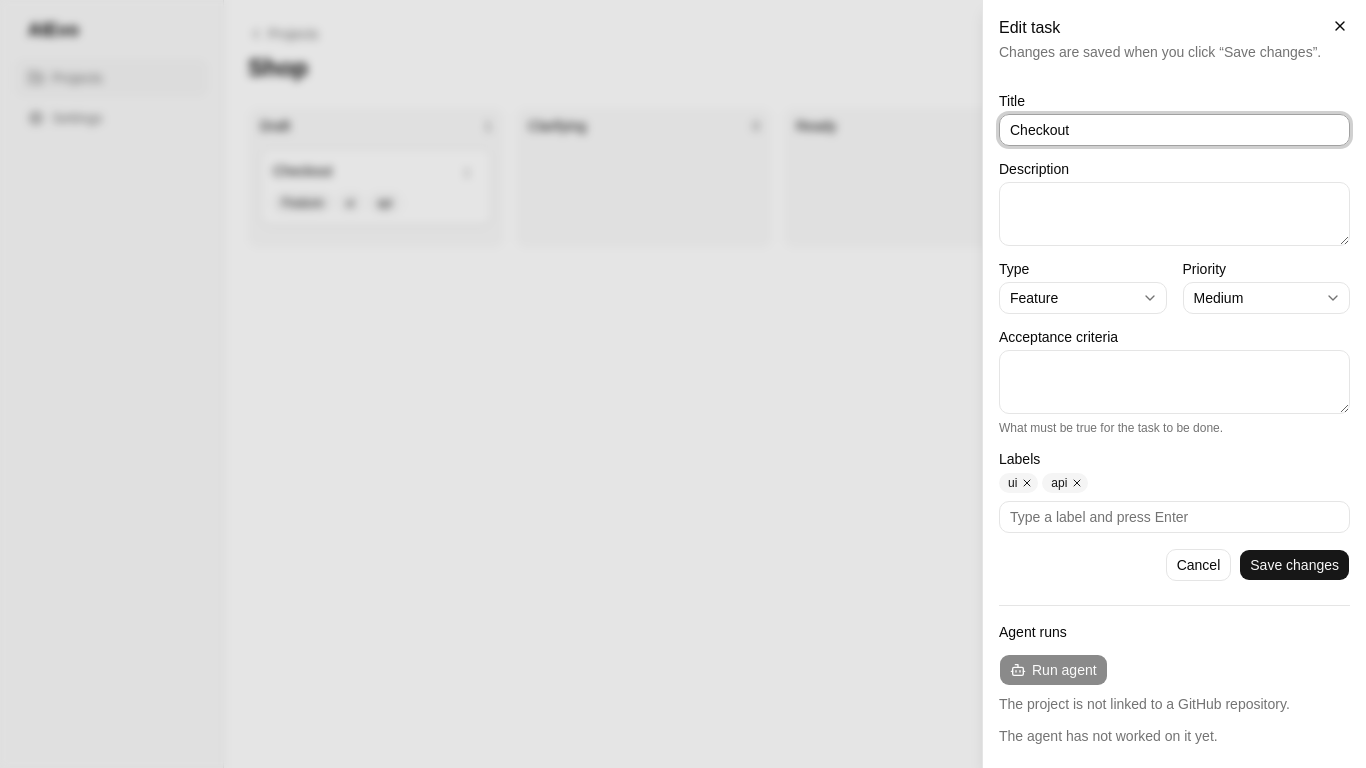
it: TaskSheet › sends the new labels when a label is removed and another added
The width and height of the screenshot is (1366, 768).
Click the button named "Remove label ui". click: (1027, 483)
box: [1021,477,1033,489]
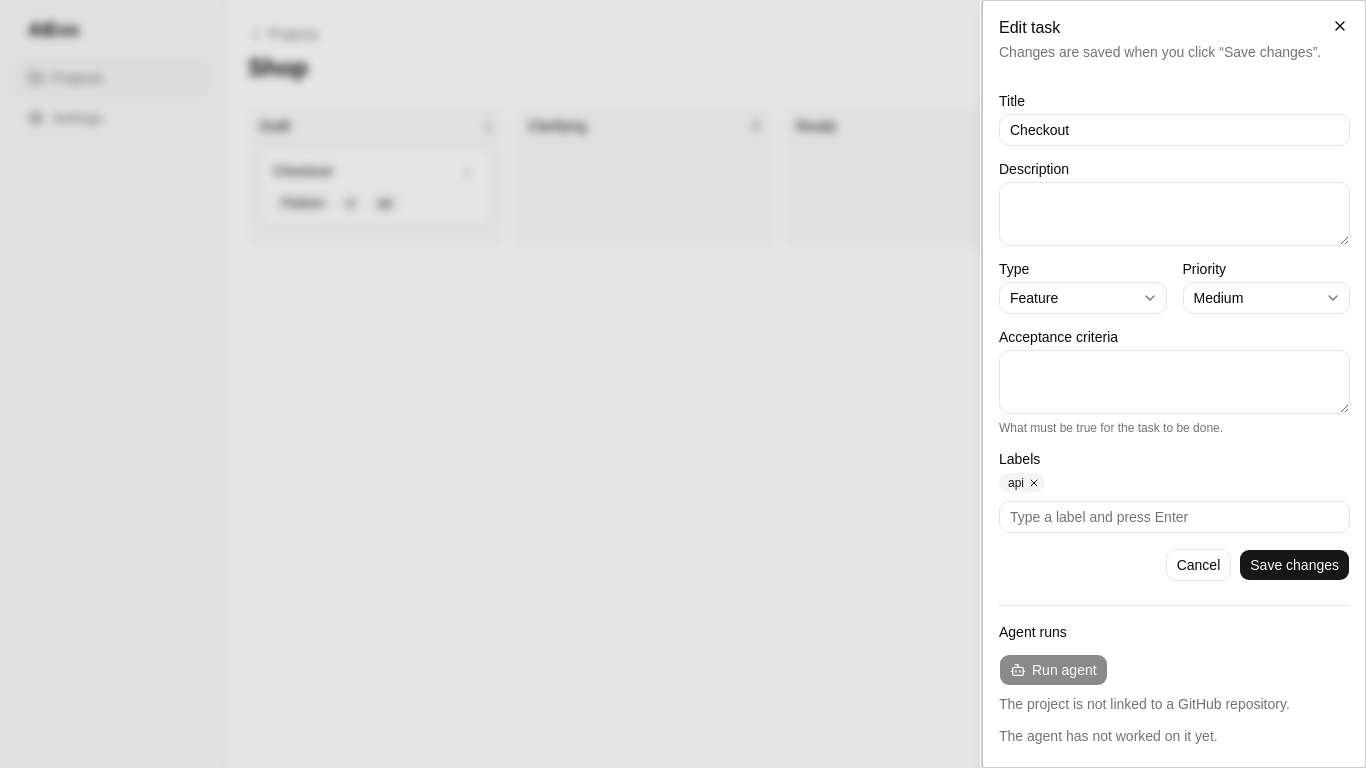
Type "web" into the field labelled "Labels". click: (1174, 517)
box: [999,501,1350,533]
Then press Enter
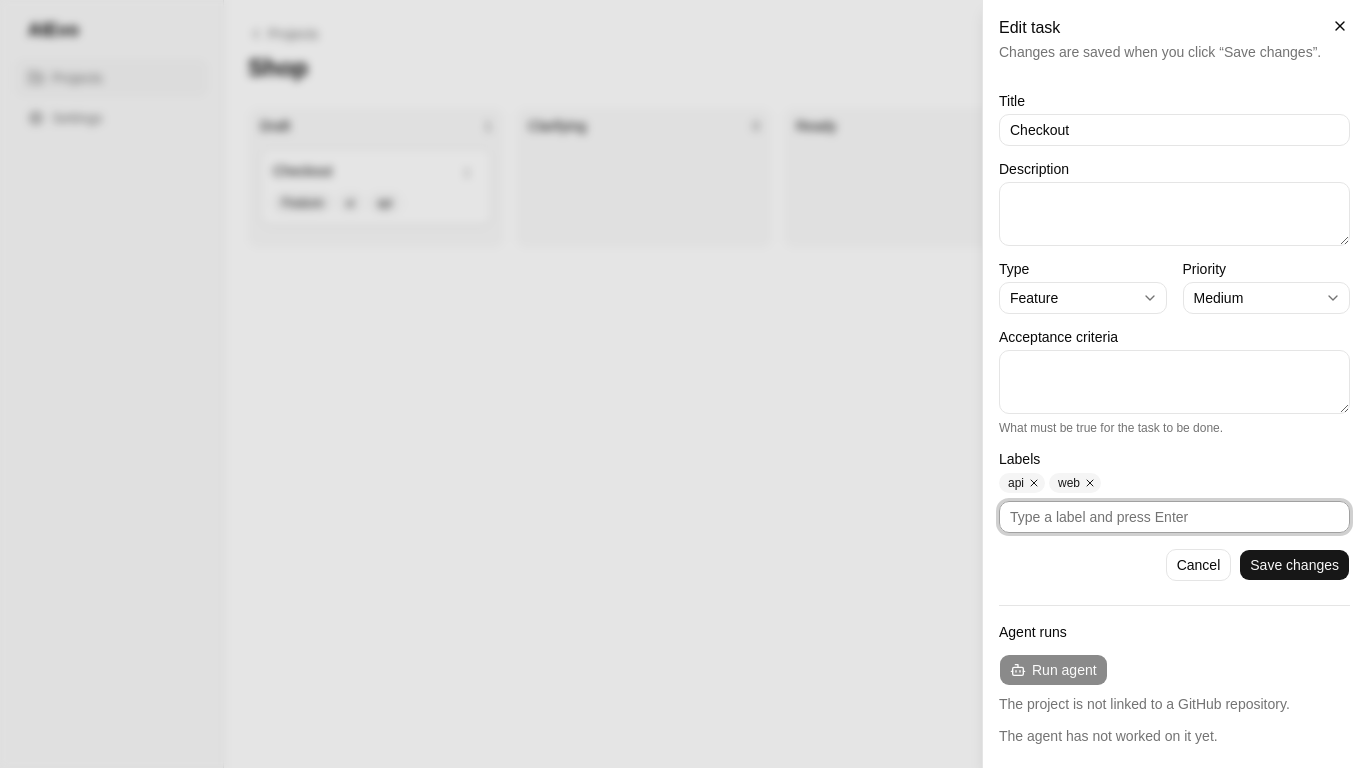
Click the button "Save changes". click: (1295, 565)
box: [1239,549,1350,581]
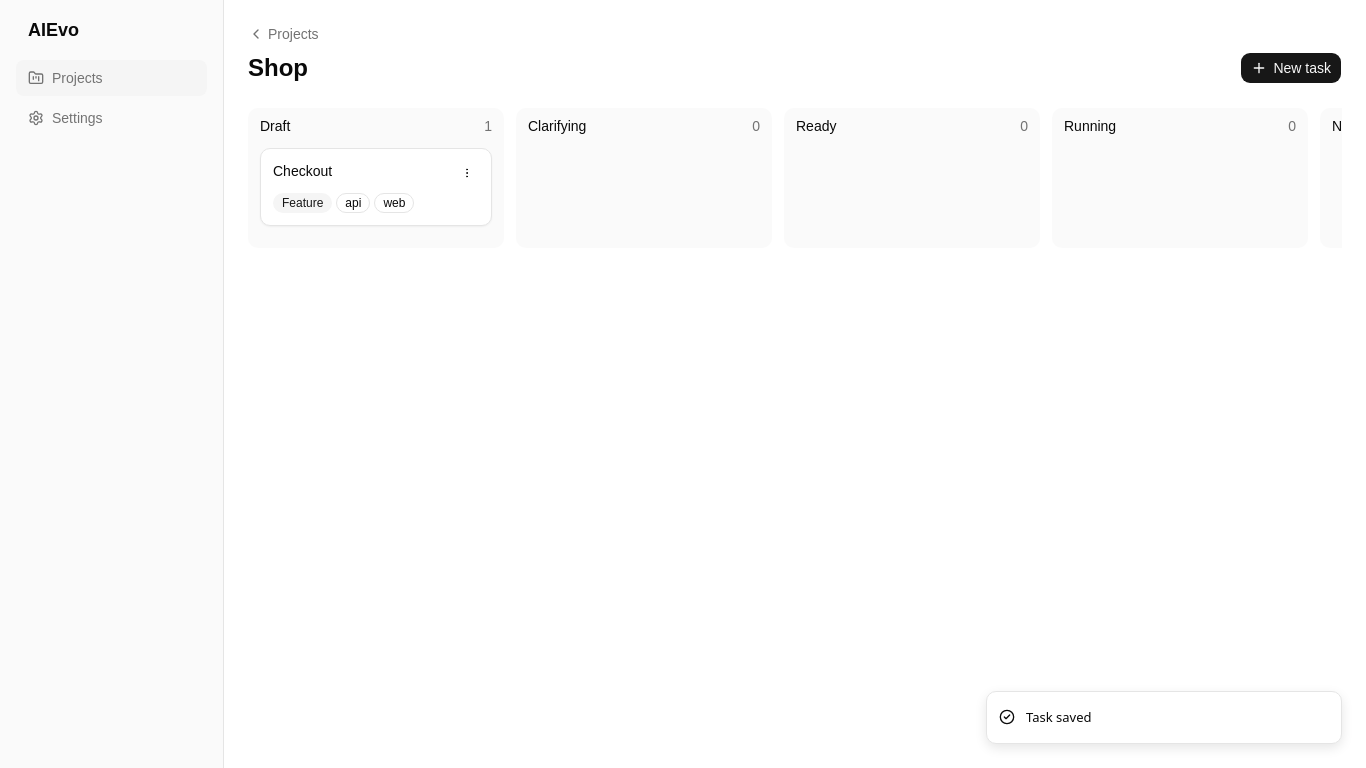
Result: the dialog is gone
